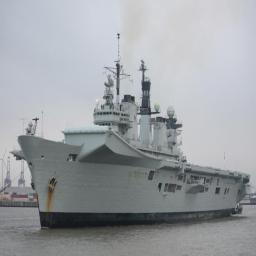Portanaves: (18, 27, 254, 236)
